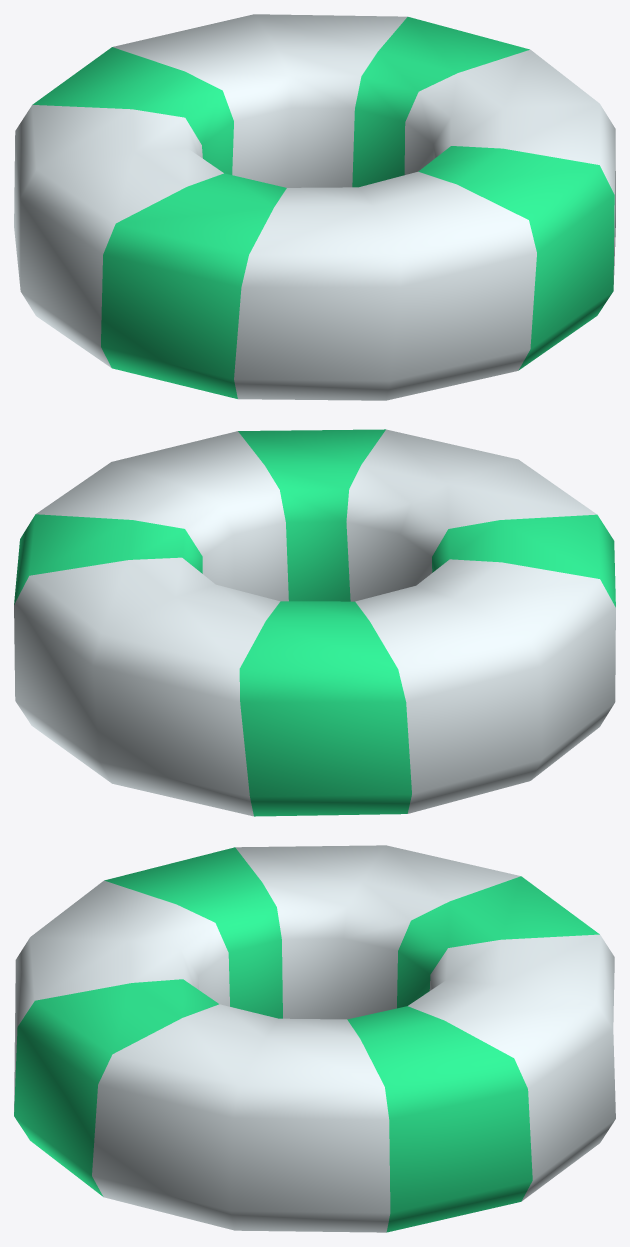
Rendered from candy_assets2.fbx.
3 views of the same model, one above another, from view 1: azimuth 30°, elevation 25°; view 2: azimuth 150°, elevation 25°; view 3: azimuth 270°, elevation 25° (orthographic).
Visible parts, largest first — view 1: candy_assets2; view 2: candy_assets2; view 3: candy_assets2.
Boxes of the visible parts, <box> form: candy_assets2: <box>14,14,615,400</box>; candy_assets2: <box>14,429,615,816</box>; candy_assets2: <box>14,845,615,1232</box>.
Size of the model in its own units: 316 by 91.55 by 315.
Materials: 1 (1 with a texture image).
